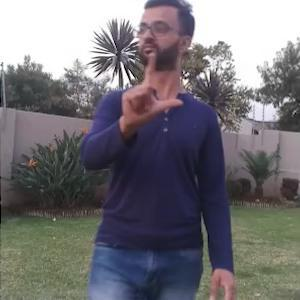land_hand: (118, 51, 187, 130)
